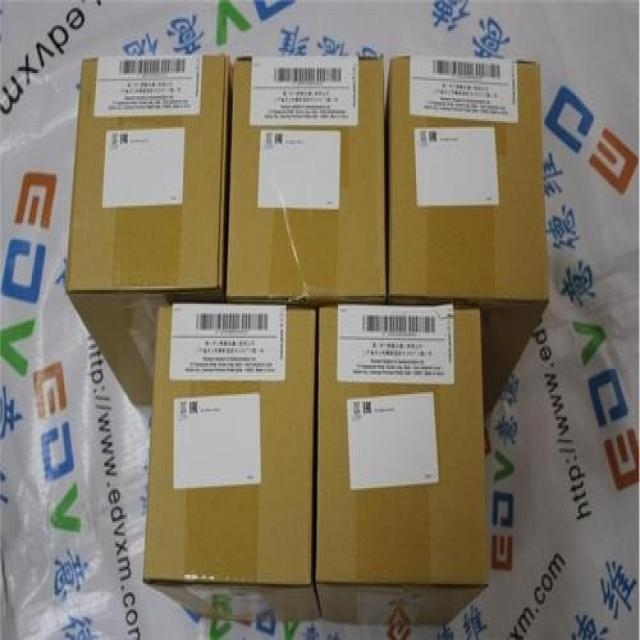box: (67, 56, 236, 406), (387, 54, 549, 419), (142, 302, 323, 623), (316, 304, 488, 627), (227, 54, 388, 306)
